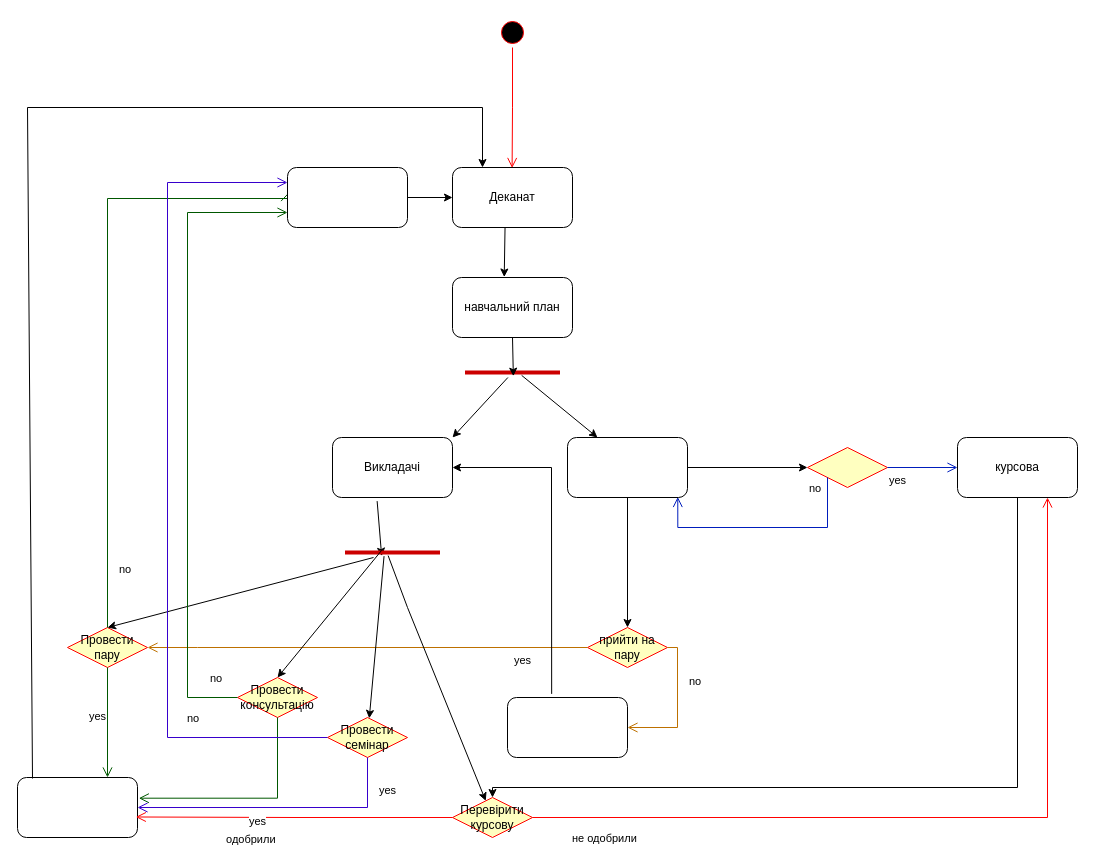
This 1095x864 diagram has some shape labels left out. The centre of each missing label's shape, as x and y in pixels:
"заповнити журнал" goes at [77,807].
"обрати тему курсової" goes at [847,467].
"Повідомити причину" goes at [347,197].
"повідомити причину відсутності" goes at [567,727].
"Студенти" goes at [627,467].
